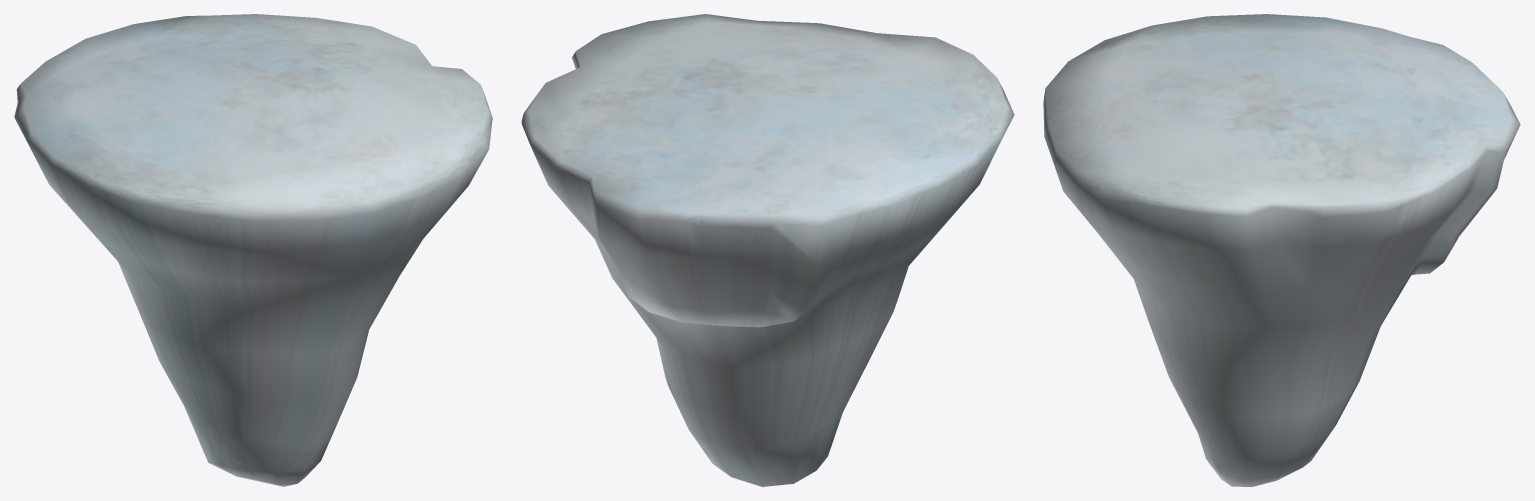
Rendered from P_RockDesert_CliffHalf02.obj.
The picture shows the model from 3 angles, left to right: view 1: azimuth 30°, elevation 25°; view 2: azimuth 150°, elevation 25°; view 3: azimuth 270°, elevation 25°; orthographic projection. The views are drawn at different scales.
Size of the model in its own units: 38.62 by 35.74 by 39.84.
